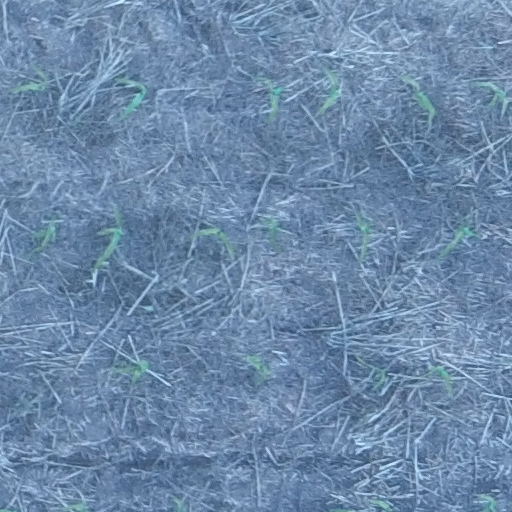planta: (394, 71, 436, 118), (93, 209, 124, 270), (113, 74, 147, 119), (439, 219, 477, 259), (353, 352, 388, 389), (255, 76, 284, 120), (191, 225, 235, 253), (108, 357, 150, 386), (29, 218, 56, 255), (319, 65, 340, 112), (15, 65, 50, 93), (473, 80, 508, 107), (353, 213, 374, 258), (418, 365, 453, 392), (245, 354, 274, 386), (259, 218, 279, 249)
